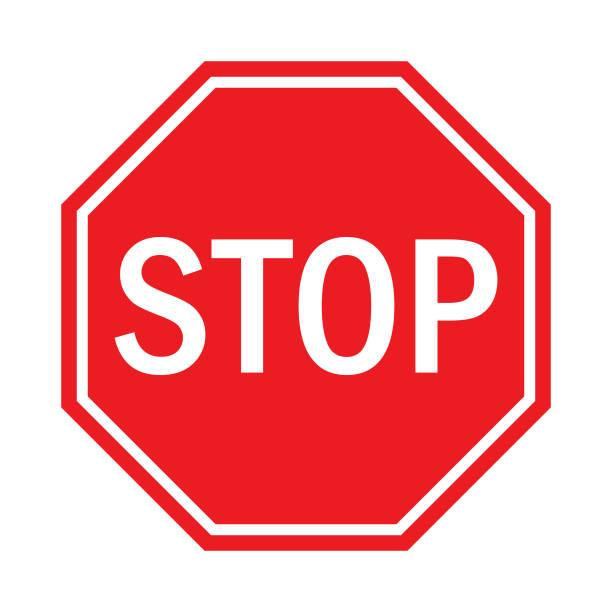Stop: (41, 33, 591, 587)
